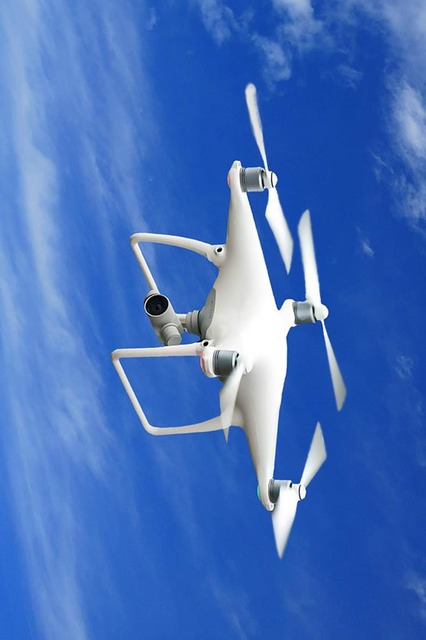drone: (109, 83, 348, 559)
